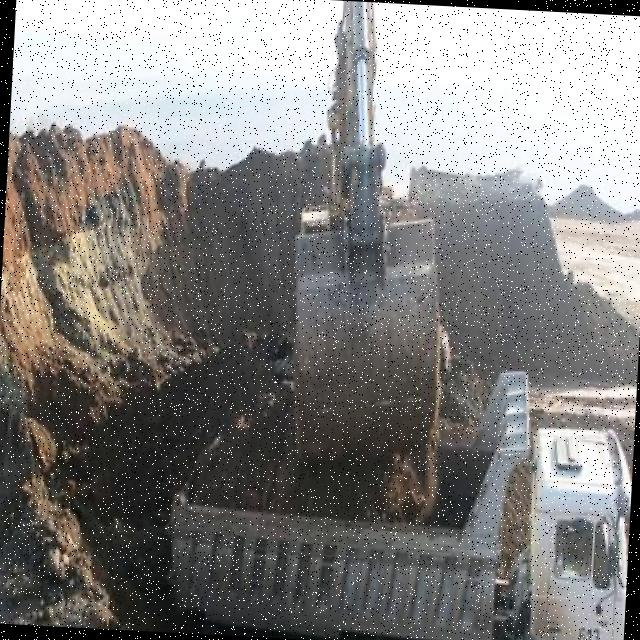Dump Truck: (156, 343, 637, 640)
Excavator: (273, 0, 467, 454)
